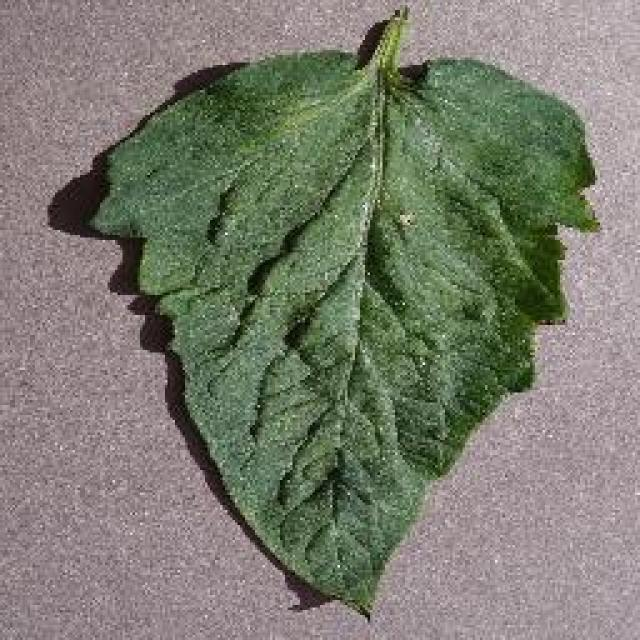Tomato___Target_Spot: (90, 8, 595, 610)
